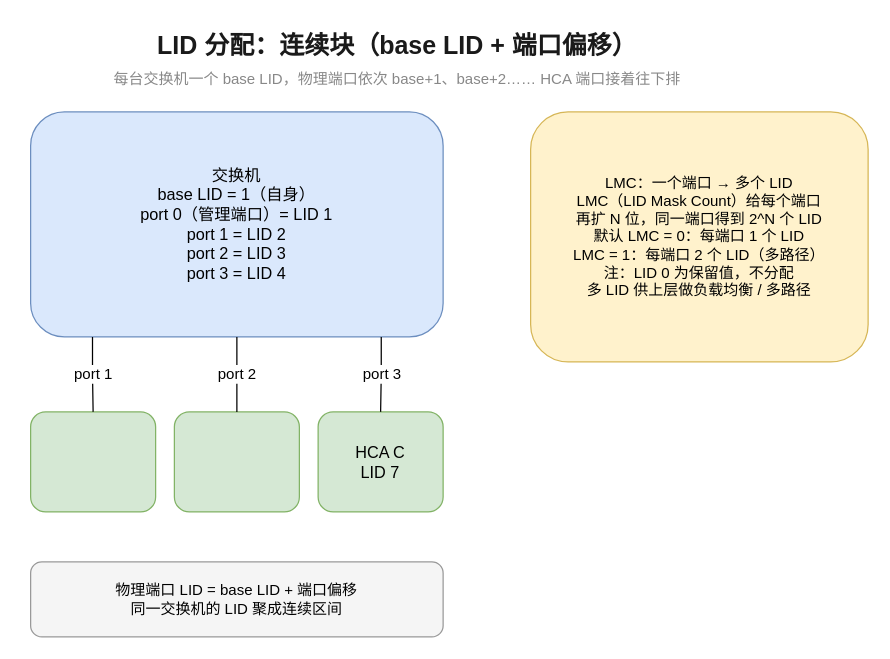
This 890x659 diagram has some shape labels left out. The shapes that lost their labels are listed below. From the top down, each one's centre as x and y in pixels, then its label:
(x=92, y=461): HCA A LID 5
(x=236, y=461): HCA B LID 6
